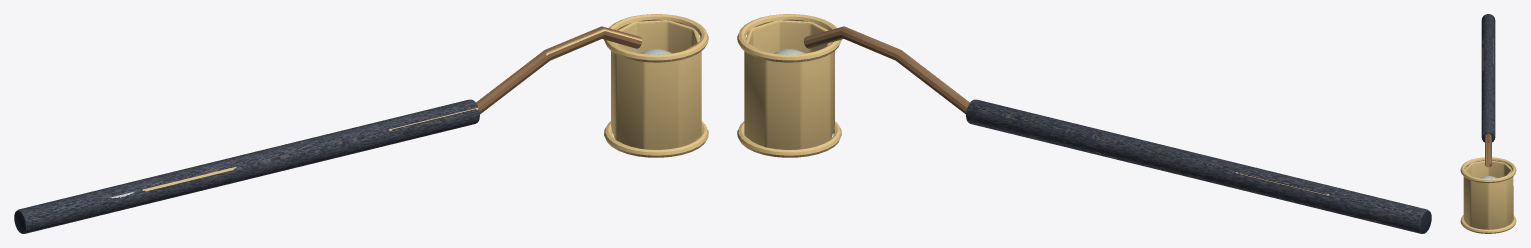
File: abyssallure.glb
3 renders of one model, left to right at view 1: azimuth 30°, elevation 25°; view 2: azimuth 150°, elevation 25°; view 3: azimuth 270°, elevation 25°, orthographic. The views are drawn at different scales.
Visible parts, largest first — view 1: pole, cage, stalk, cage_top, cage_bottom; view 2: pole, cage, stalk, cage_top, cage_bottom; view 3: cage, pole, cage_top, cage_bottom, stalk, lure.
Part boxes in pixels (x1,y1,x2,y2): pole: (14, 99, 479, 233); cage: (611, 20, 701, 149); stalk: (476, 26, 642, 114); cage_top: (604, 14, 708, 62); cage_bottom: (604, 121, 708, 157); pole: (966, 99, 1431, 233); cage: (744, 20, 834, 149); stalk: (803, 26, 969, 114); cage_top: (737, 14, 841, 62); cage_bottom: (737, 121, 841, 157); cage: (1463, 160, 1513, 229); pole: (1481, 14, 1495, 142); cage_top: (1460, 157, 1516, 183); cage_bottom: (1460, 215, 1516, 233); stalk: (1485, 133, 1491, 167); lure: (1480, 176, 1496, 178).
Bounding box in the file's own units: 0.75 × 0.1296 × 0.1.
1 material, 1 textured.
